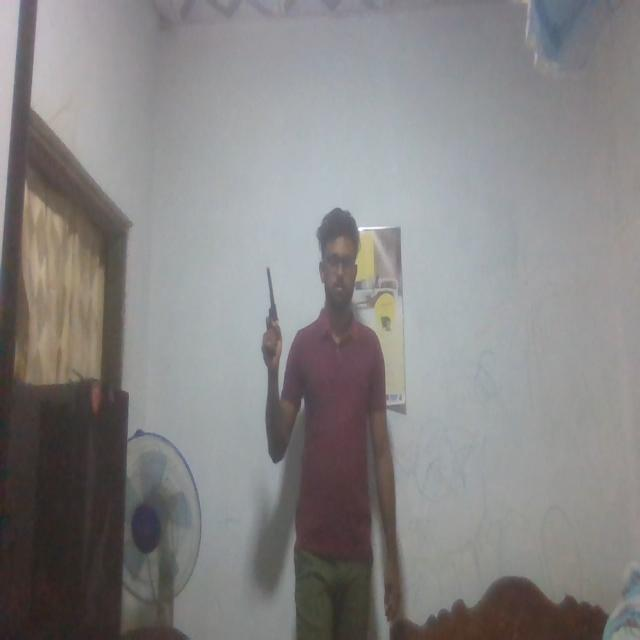Gun_Holder: (257, 263, 287, 341)
Person: (262, 213, 402, 640)
